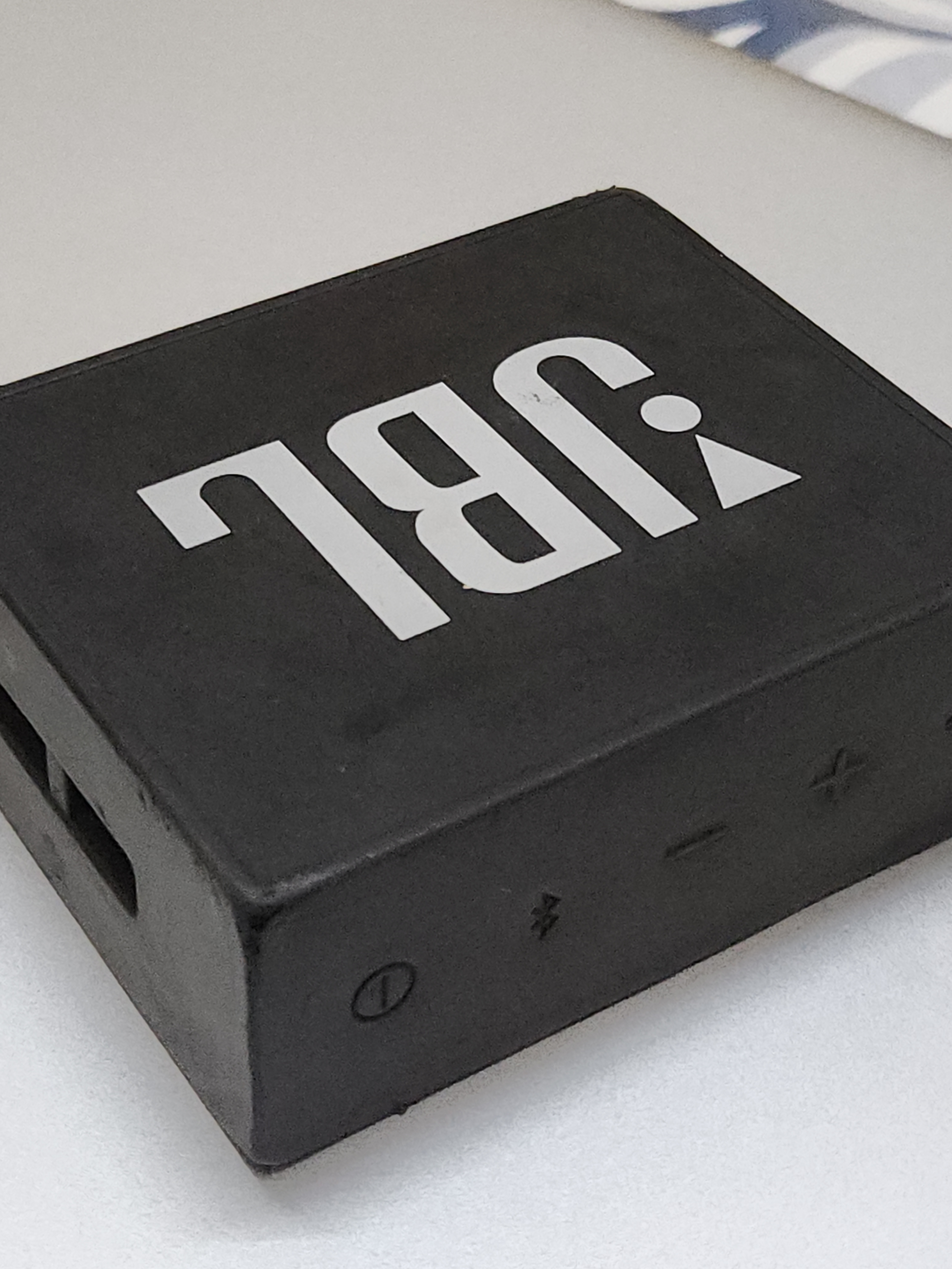speaker: (6, 185, 952, 1183)
